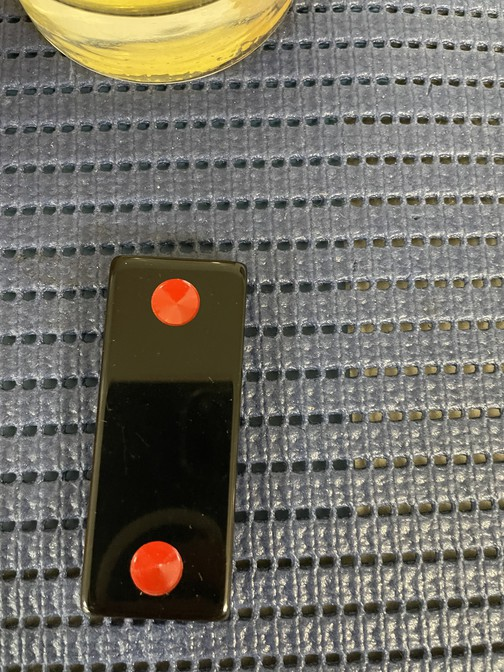earth: (80, 255, 248, 623)
